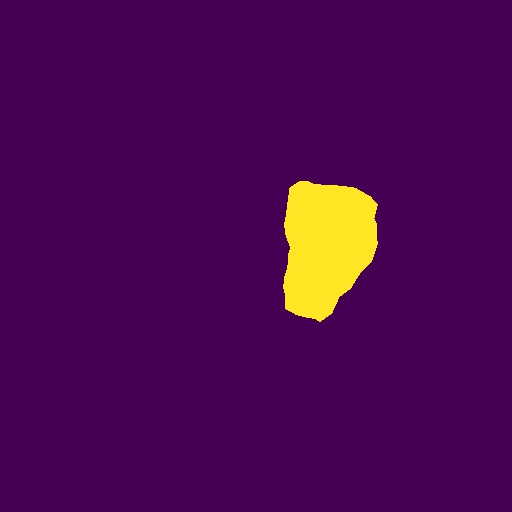Gliomia_tumour: (283, 181, 378, 322)
